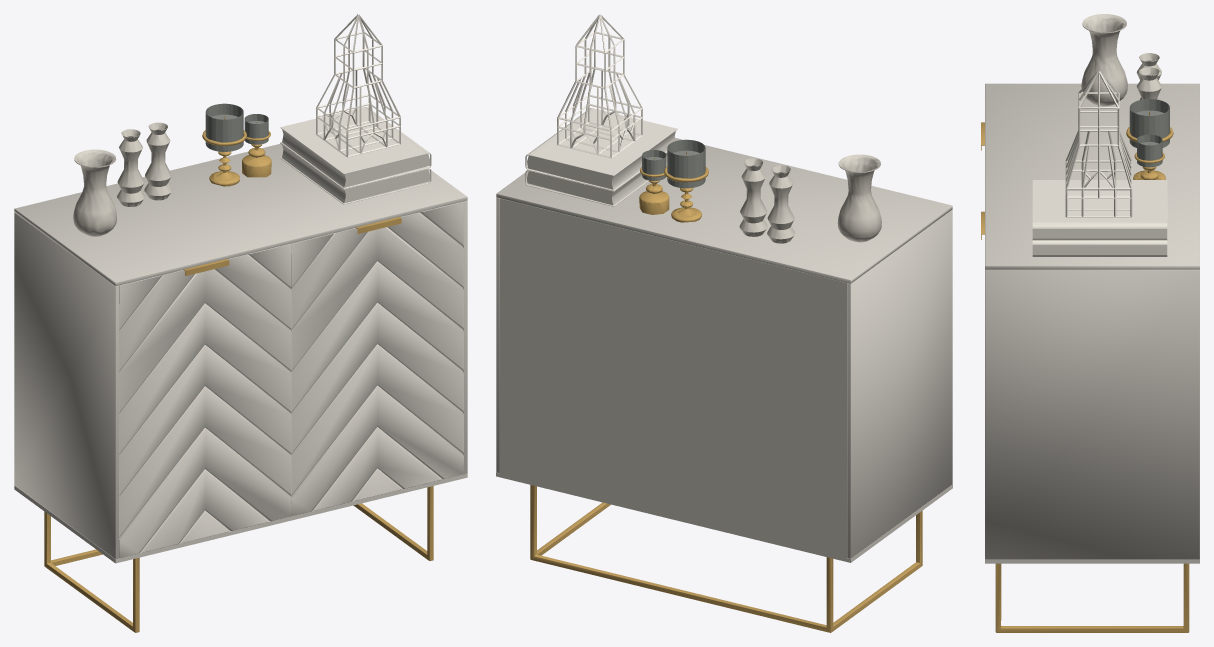
Rendered from accent-cabinet.glb.
The picture shows the model from 3 angles, left to right: view 1: azimuth 30°, elevation 25°; view 2: azimuth 150°, elevation 25°; view 3: azimuth 270°, elevation 25°; orthographic projection. The views are drawn at different scales.
Visible parts, largest first — view 1: accent-cabinet; view 2: accent-cabinet; view 3: accent-cabinet.
Part boxes in pixels (x1,y1,x2,y2): accent-cabinet: [14, 14, 467, 632]; accent-cabinet: [496, 14, 952, 632]; accent-cabinet: [981, 14, 1199, 632].
Size of the model in its own units: 0.8001 by 1.12 by 0.4061.
